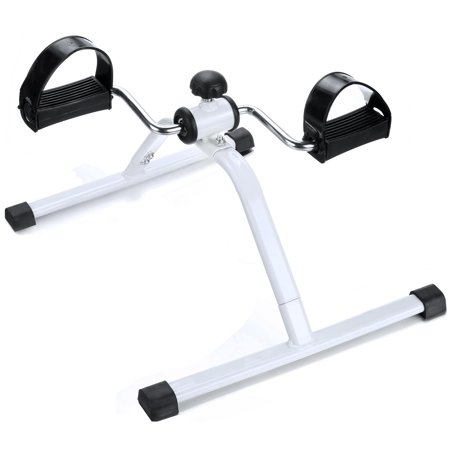gym_bike: (4, 27, 448, 427)
